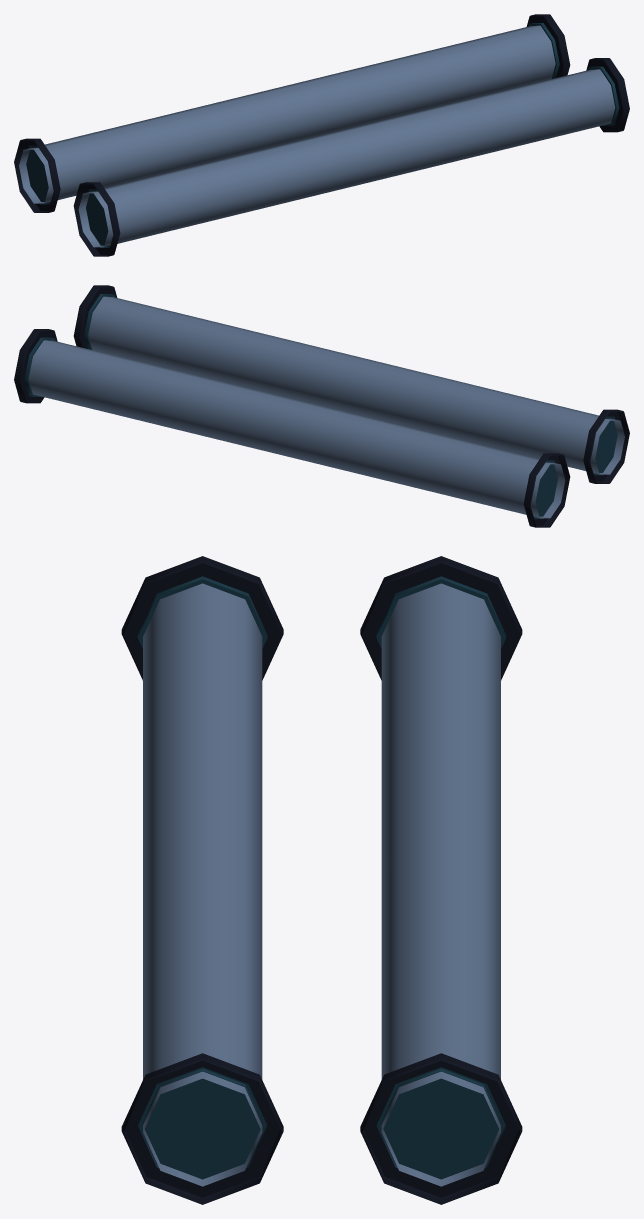
File: PipeComplexSmall_A_06.fbx
3 renders of one model, top to bottom at view 1: azimuth 30°, elevation 25°; view 2: azimuth 150°, elevation 25°; view 3: azimuth 270°, elevation 25°, orthographic. The views are drawn at different scales.
Visible parts, largest first — view 1: PipeComplexSmall_A_06.001; view 2: PipeComplexSmall_A_06.001; view 3: PipeComplexSmall_A_06.001.
Part boxes in pixels (x1=…): PipeComplexSmall_A_06.001: x1=14, y1=14, x2=629, y2=256; PipeComplexSmall_A_06.001: x1=14, y1=285, x2=629, y2=527; PipeComplexSmall_A_06.001: x1=121, y1=556, x2=522, y2=1204.
Bounding box in the file's own units: 1 × 0.1356 × 0.3356.
